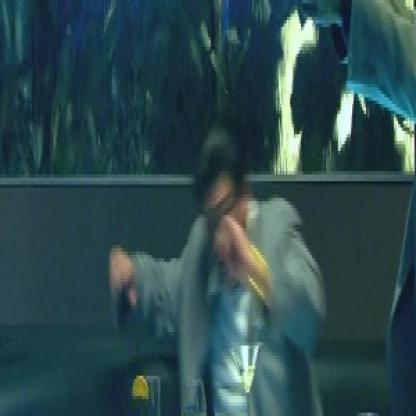gun: (274, 0, 332, 37)
